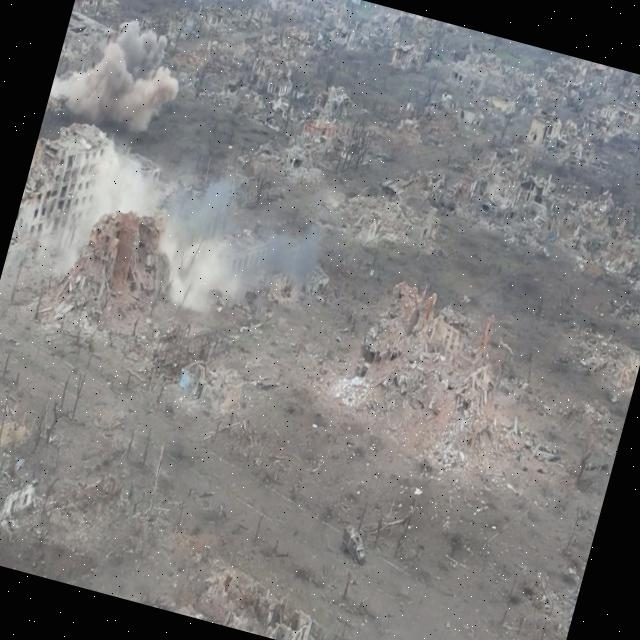Vehicle: (337, 525, 374, 568)
